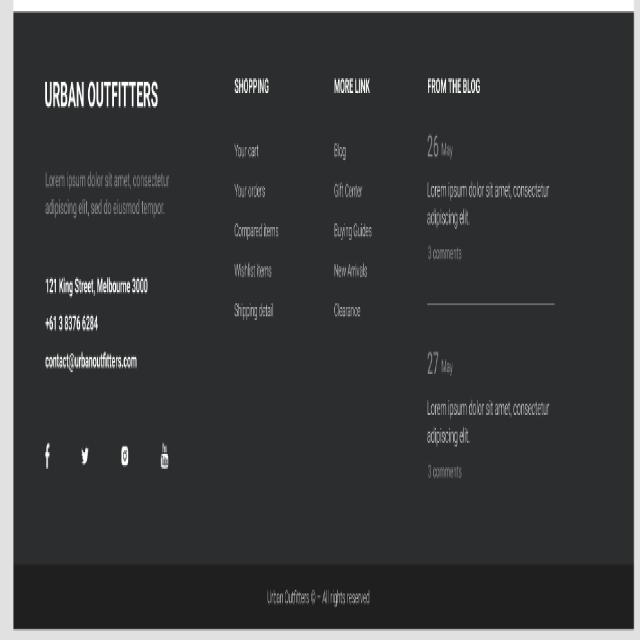SocialHandle: (43, 434, 52, 473), (79, 442, 90, 468), (160, 441, 169, 471), (121, 442, 129, 469)
